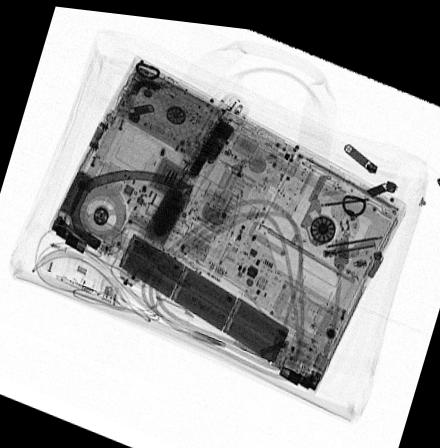Baton: (116, 85, 250, 286)
